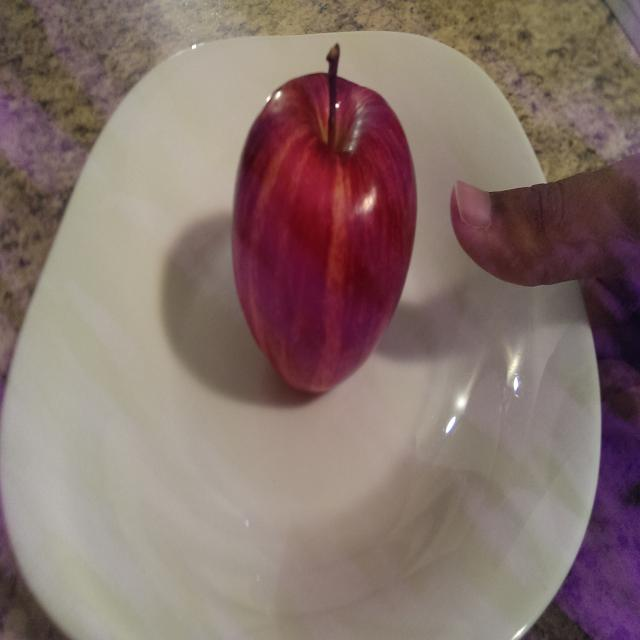apple: (215, 40, 426, 411)
